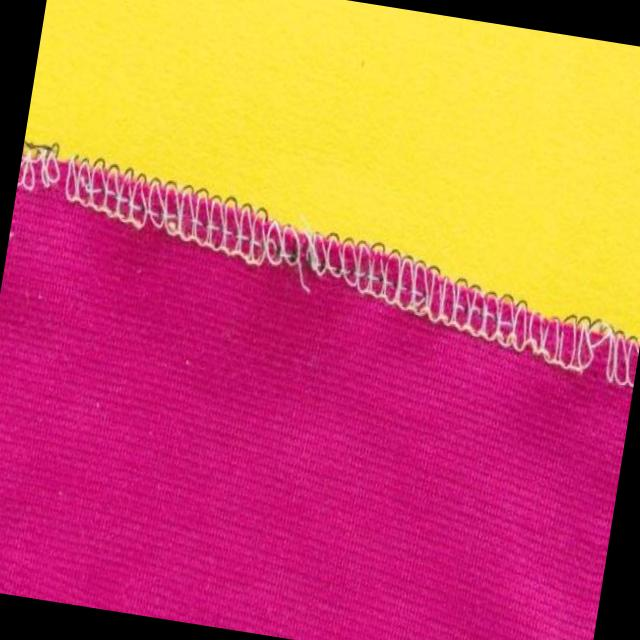gray stitch: (294, 226, 640, 389), (12, 136, 320, 280)
